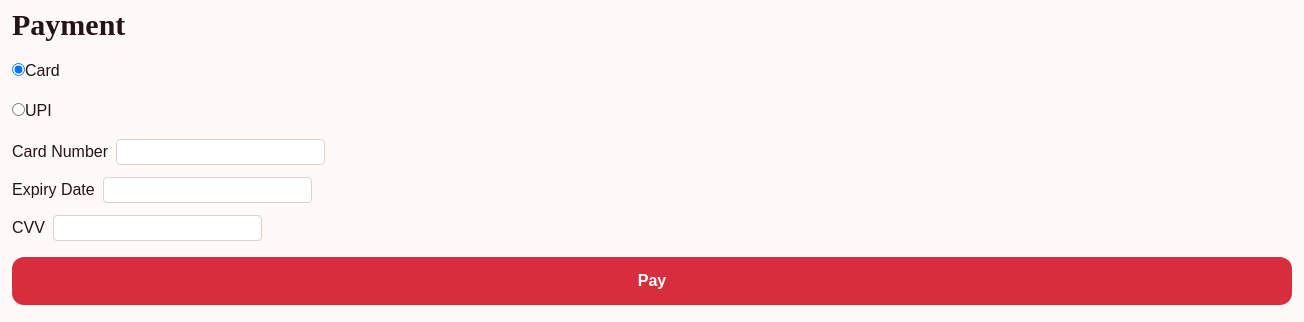
Test case: PaymentStep › switches to the UPI form when that payment option is selected
This screenshot has width=1304, height=322.
Click the radio button labelled "UPI" at (18, 110), box [12, 103, 25, 116]
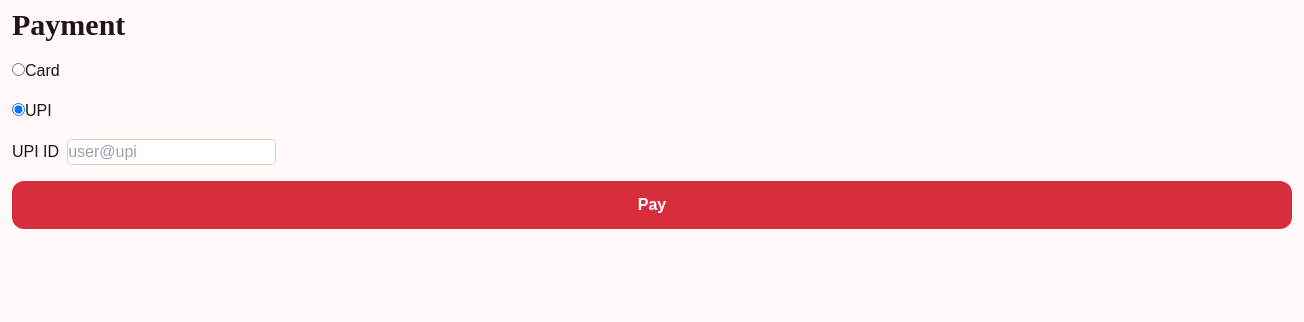
Check: the field labelled "UPI ID" is shown, box [67, 139, 276, 165]
Check: the label labelled "Card Number" is gone
